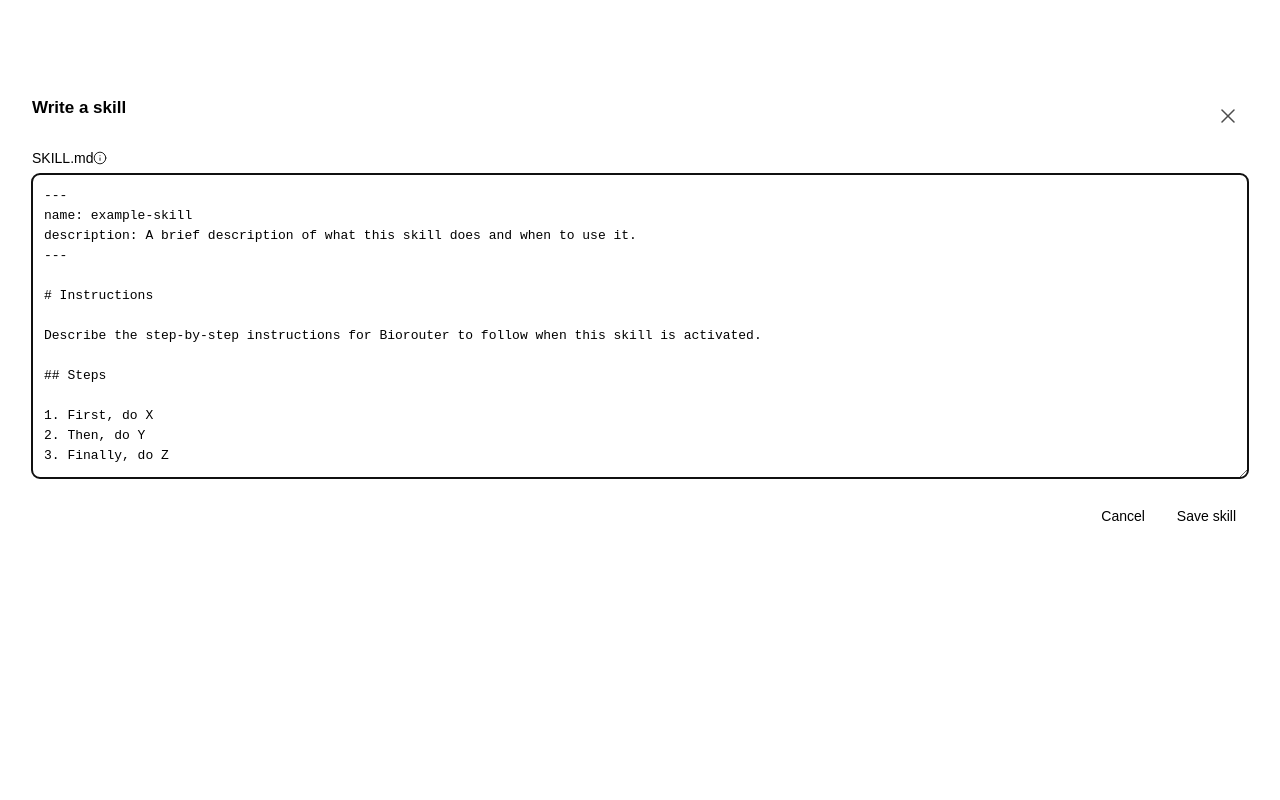
Test: CustomSkillModal › blocks all dismissal while the skill is being written
The width and height of the screenshot is (1280, 800).
Click the button "Save skill" at {"x": 1206, "y": 516}, box 1165,506 -> 1248,526
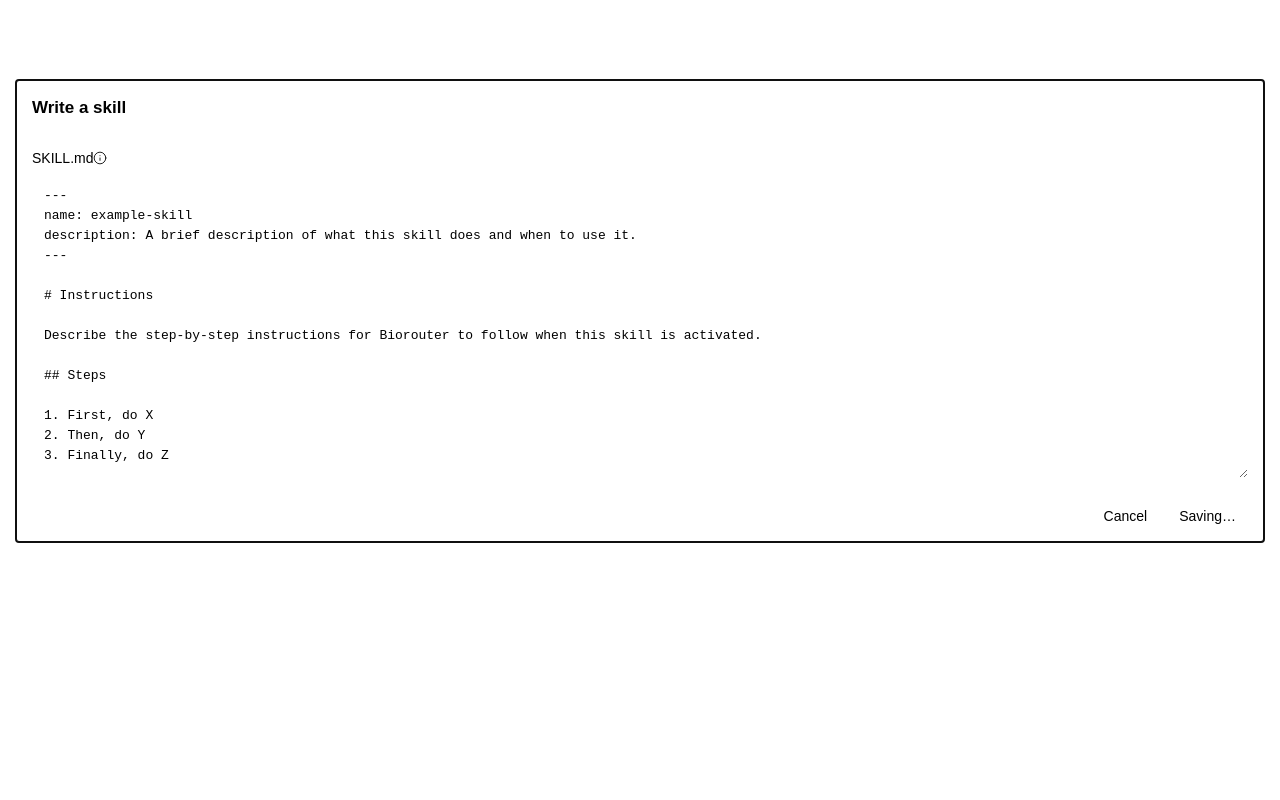
Expected: the button "Close" is not shown
Now the button "Saving…" is disabled, box 1167,506 -> 1248,526
Press Escape
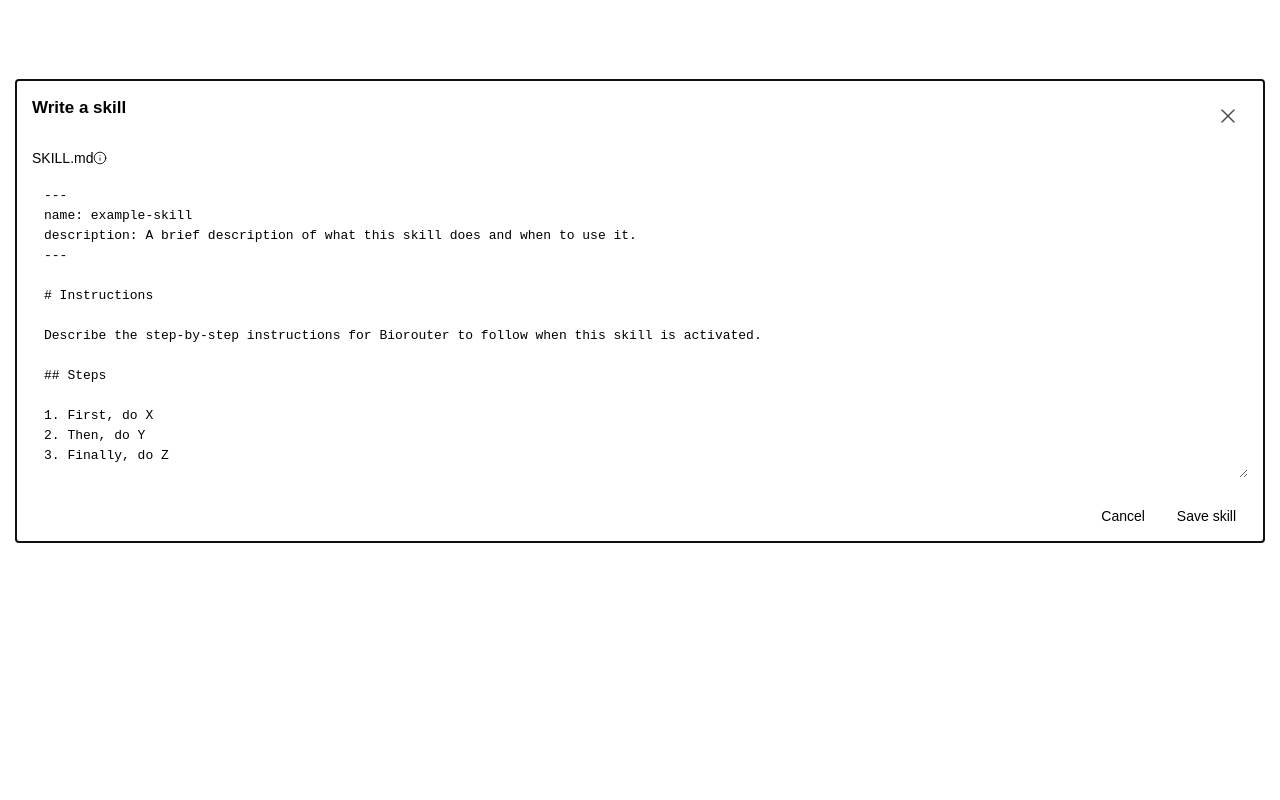
Expected: the dialog is shown, 16,80 -> 1264,542
Now the button "Save skill" is enabled, box 1165,506 -> 1248,526
